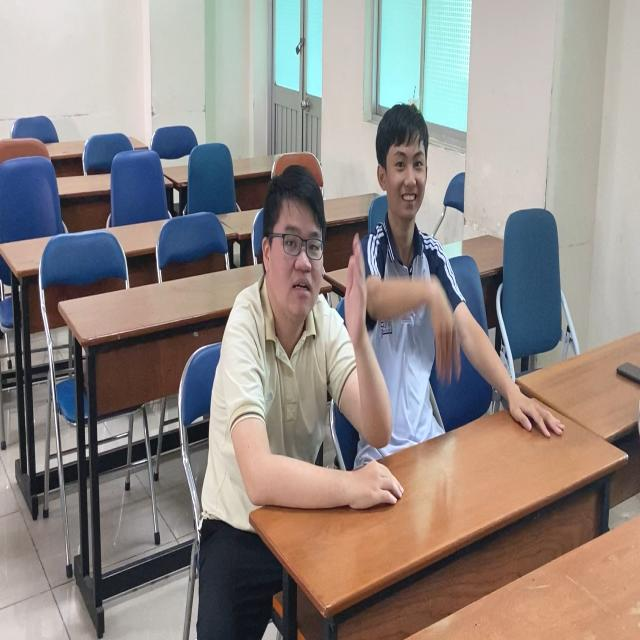raise_hand: (210, 158, 383, 519)
